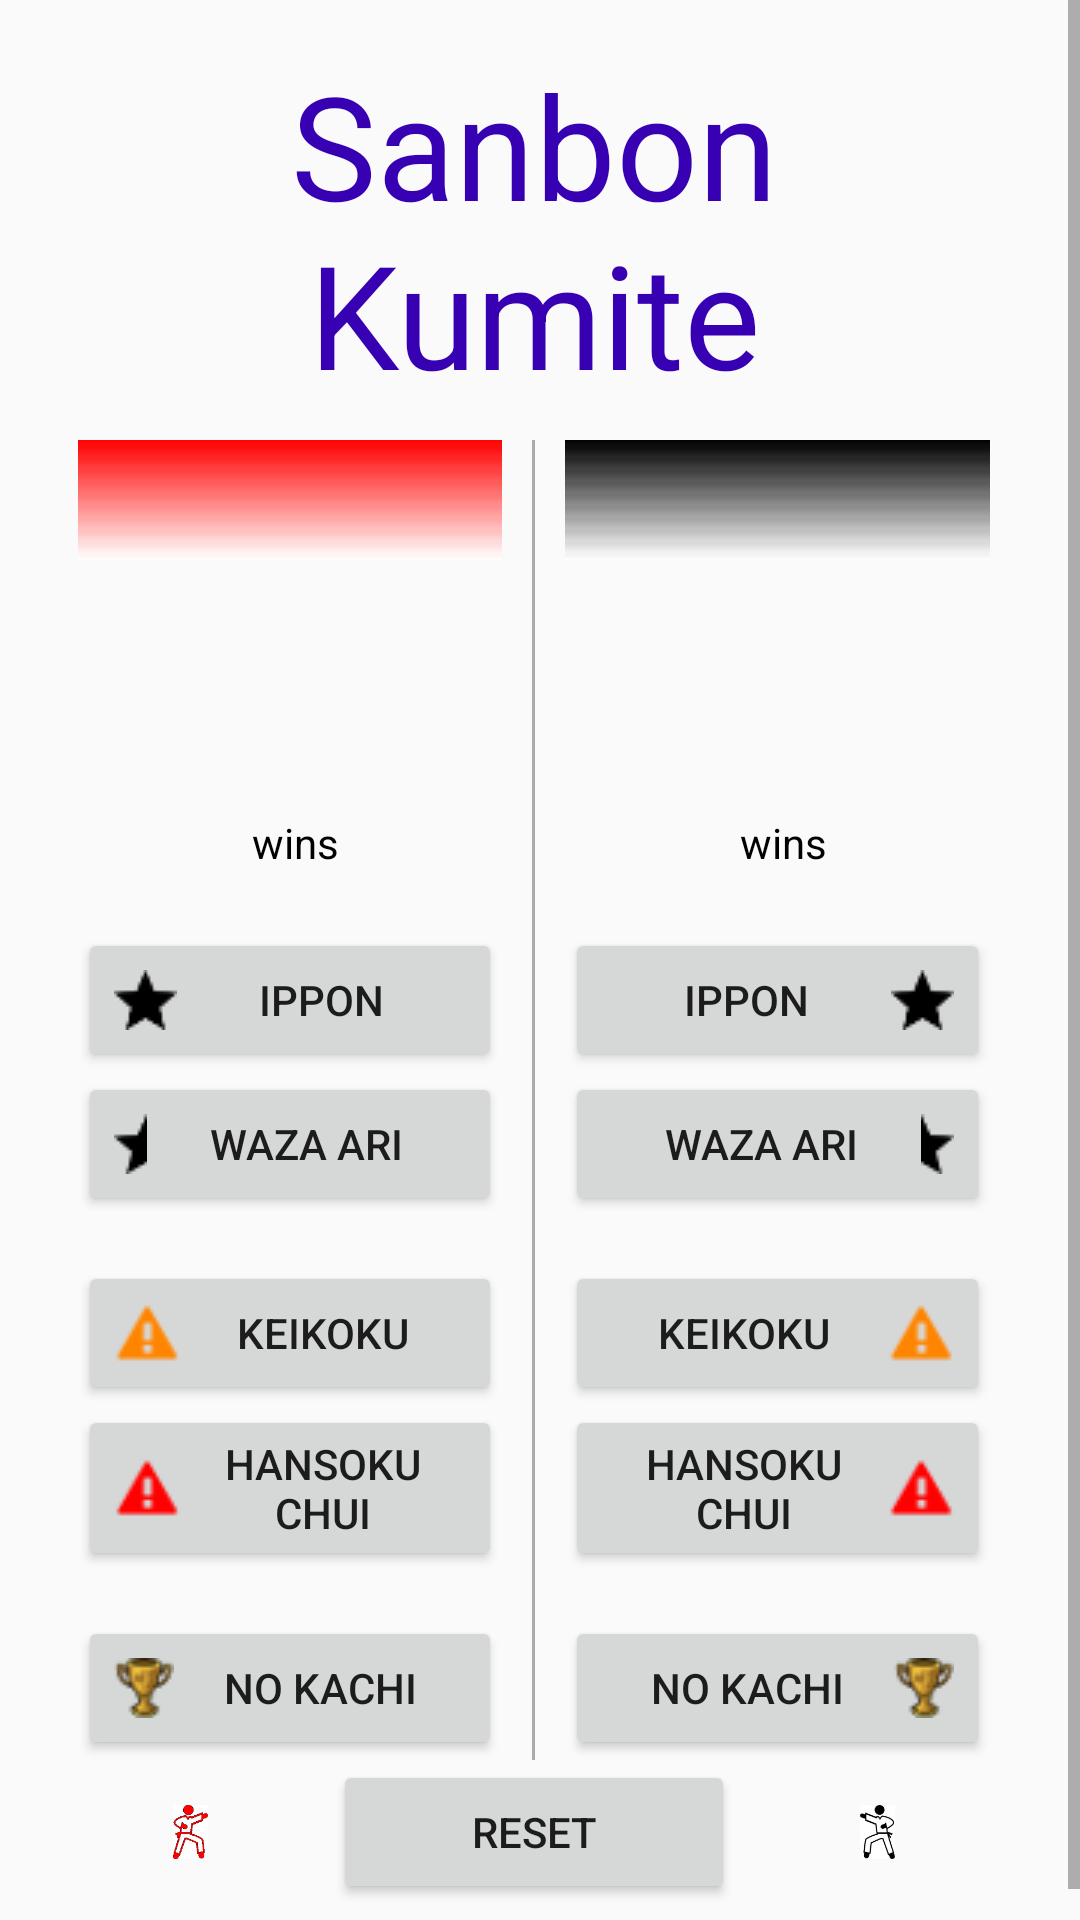

Icon click points for this 1080 × 1920 phone screenshot, format (x,y):
Aka: (190,1832)
Shiro: (877,1832)
